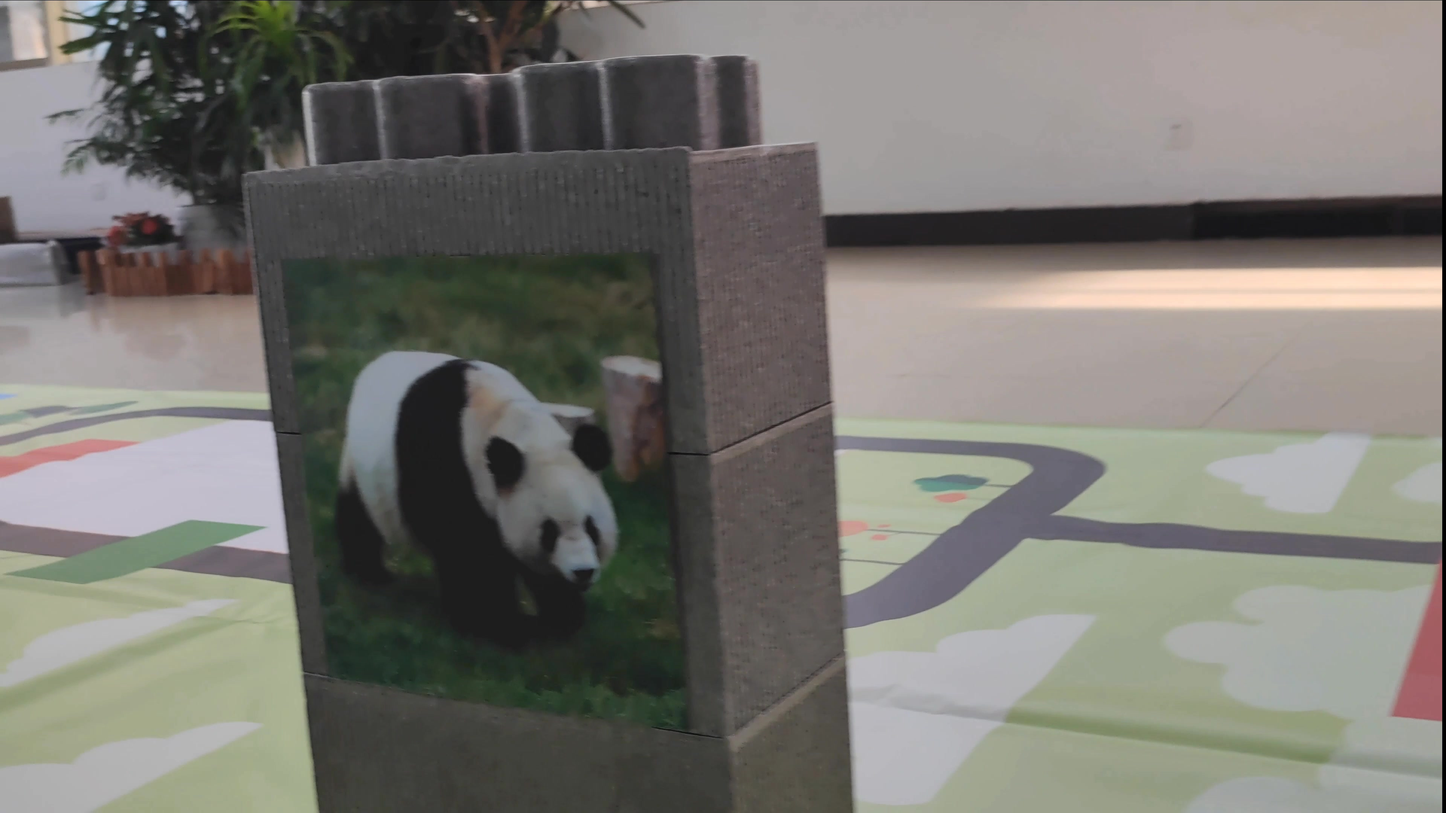panda: (308, 307, 633, 639)
